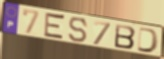7: (21, 8, 42, 36), (93, 20, 112, 46)
B: (113, 23, 137, 50)
D: (136, 26, 160, 55)
E: (43, 11, 67, 42)
S: (68, 17, 89, 44)
